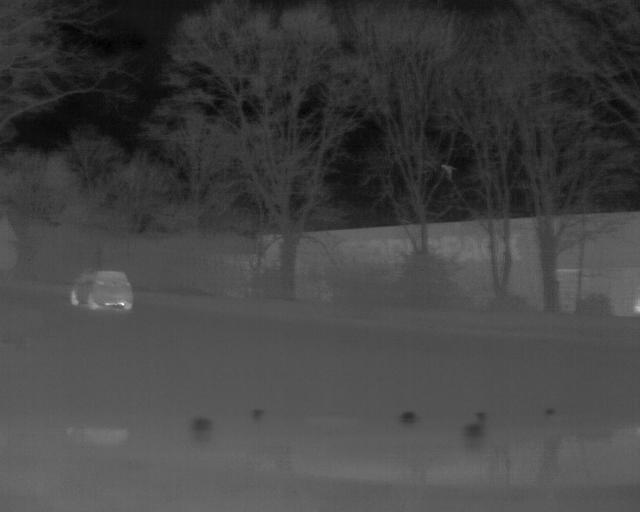car: (68, 267, 134, 313)
